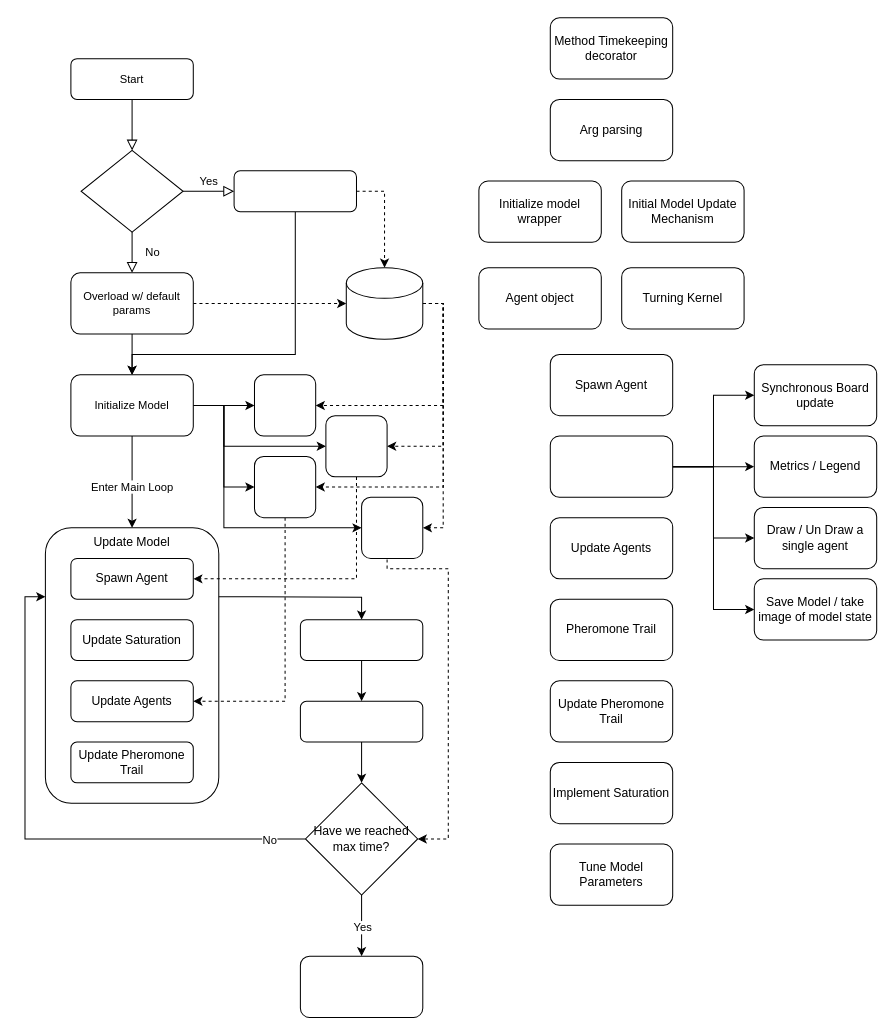
The diagram is 895 pixels wide and 1035 high, and some of its shapes have lost their labels. The shapes that lost their labels are listed below. From the top down, each one's centre as x and y in pixels, then its label:
point 131,190: Custom Model Parameters
point 294,191: Load into model
point 384,303: Model Parameters
point 284,405: Set Board state
point 356,446: Set Default Agent
point 611,466: Pygame "hooks" / functionality
point 284,486: Load Turning Kernel
point 392,527: Set Time step & Max time elapsed
point 361,639: Get Metrics
point 361,721: Draw Model
point 361,986: Save Model
